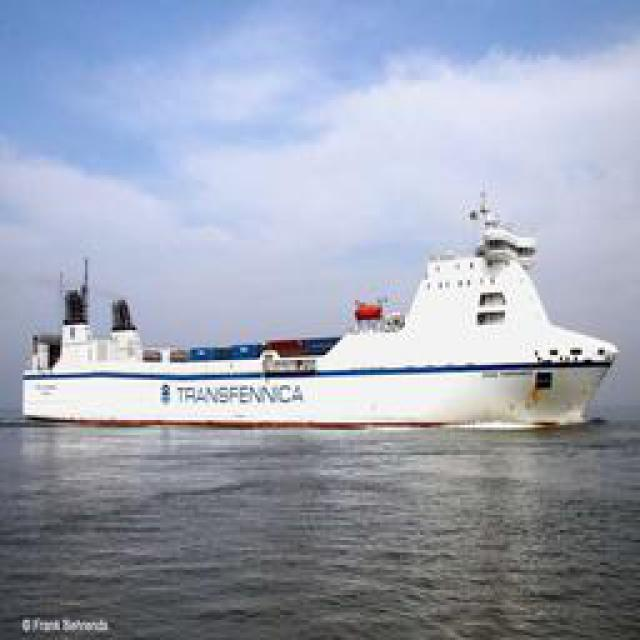Ship: (4, 187, 617, 435)
